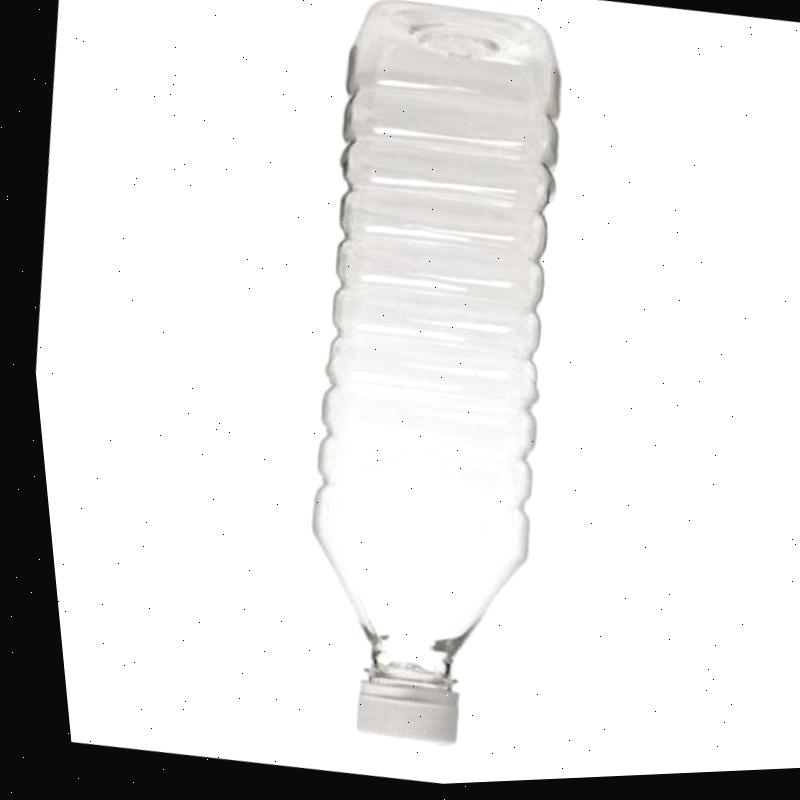botella: (234, 0, 620, 769)
